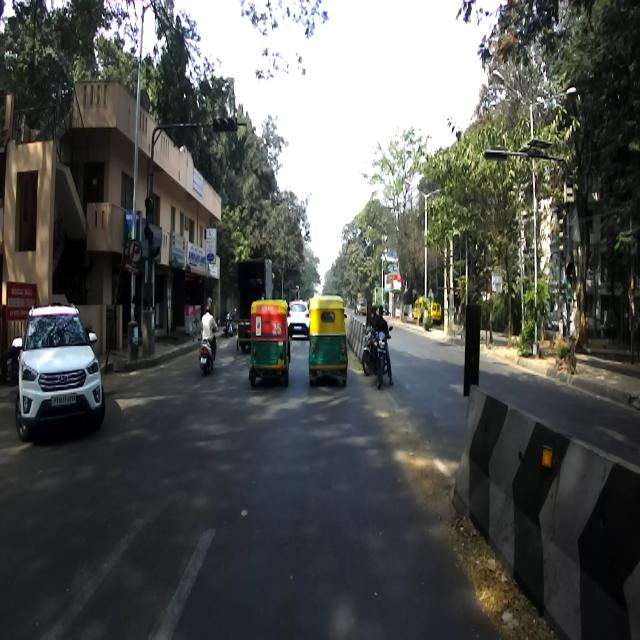auto ahead at: (308, 285, 350, 391), (248, 301, 292, 388)
car ahead at: (12, 298, 103, 431)
